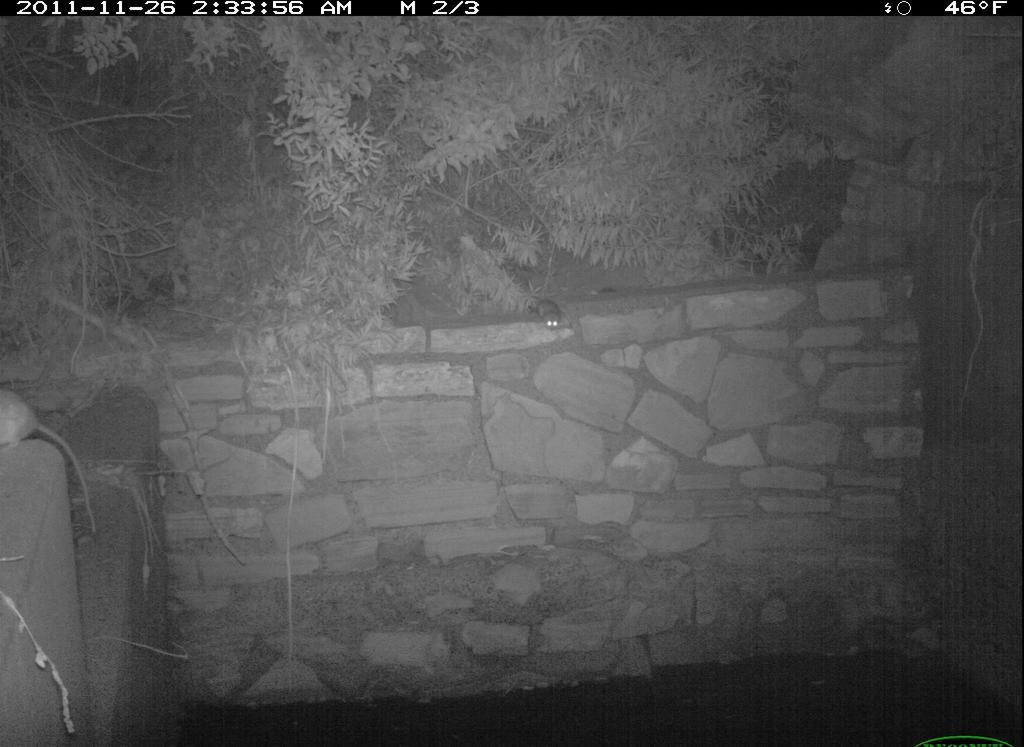rodent: (523, 295, 564, 332)
